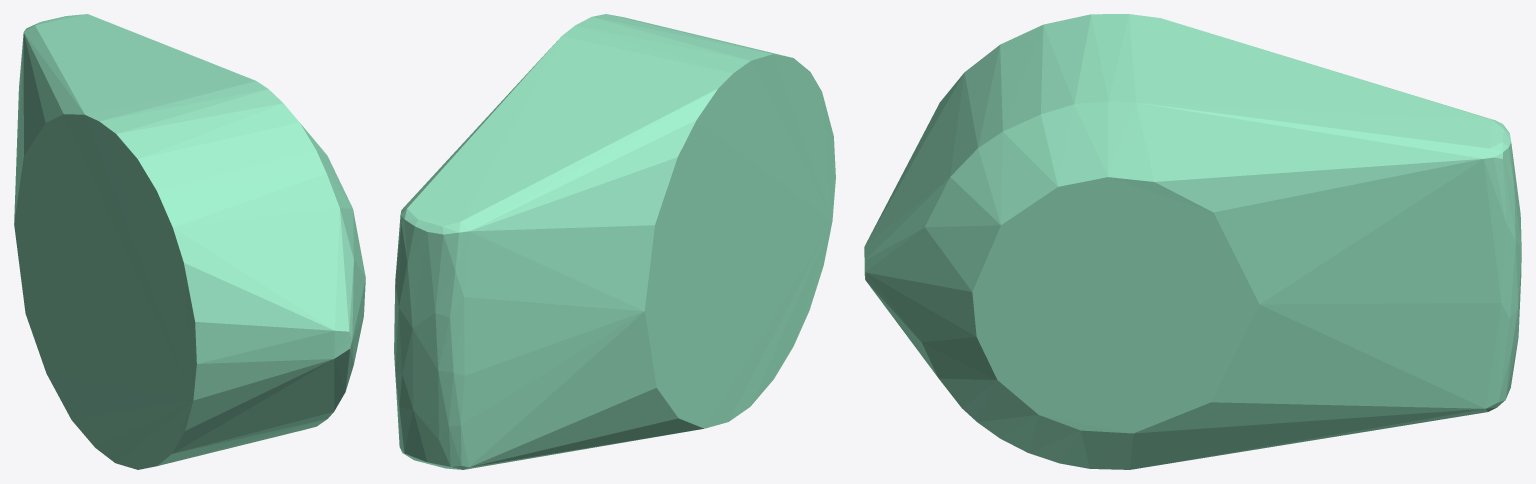
Rendered from Panda_link7_respondable_coll_1.dae.
3 views of the same model, side by side, from view 1: azimuth 30°, elevation 25°; view 2: azimuth 150°, elevation 25°; view 3: azimuth 270°, elevation 25° (orthographic). The views are drawn at different scales.
Parts seen in each view (by area): view 1: Node_0x7f9e89b20650; view 2: Node_0x7f9e89b20650; view 3: Node_0x7f9e89b20650.
Boxes of the visible parts, bbox=[...] form: Node_0x7f9e89b20650: bbox=[14, 14, 365, 469]; Node_0x7f9e89b20650: bbox=[394, 14, 835, 469]; Node_0x7f9e89b20650: bbox=[864, 14, 1521, 469].
Bounding box in the file's own units: 0.0548 × 0.0878 × 0.1418.
